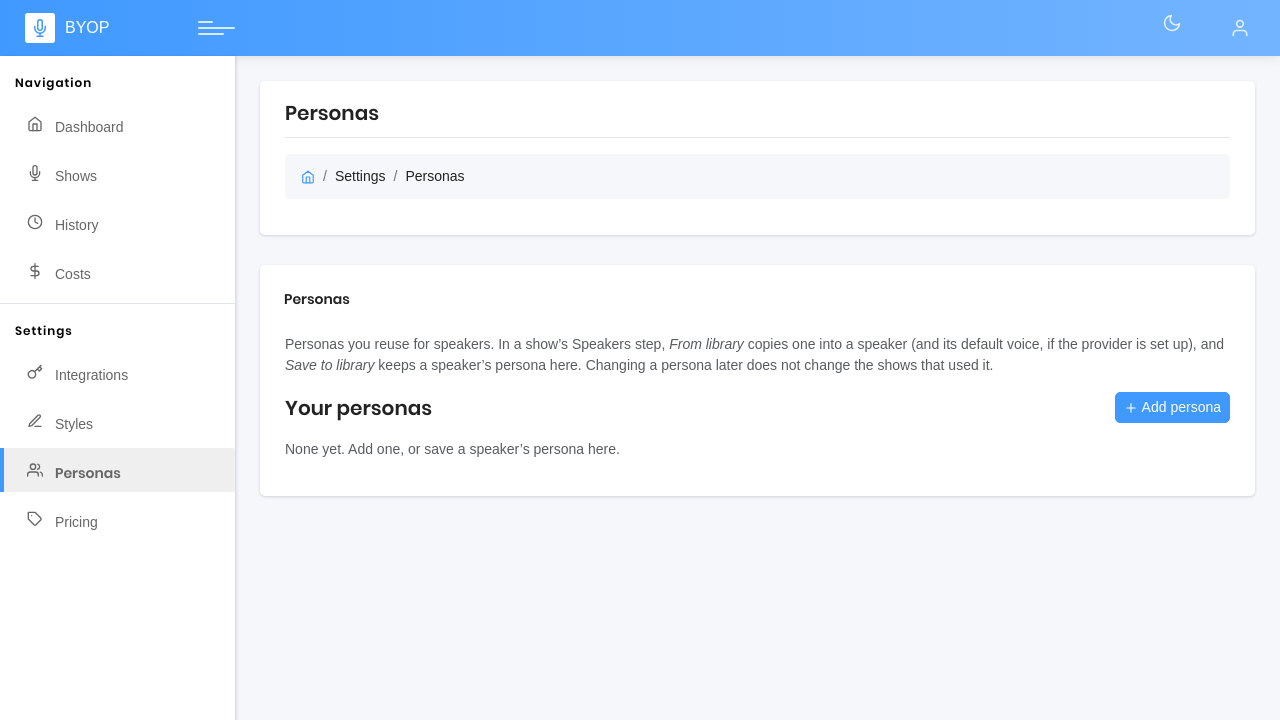
it: Personas page › shows why a persona could not be designed
Expected: the heading "Your personas" is shown, [285,396,432,420]
Click the button "Add persona" at (1172, 408), box [1115,392,1230,423]
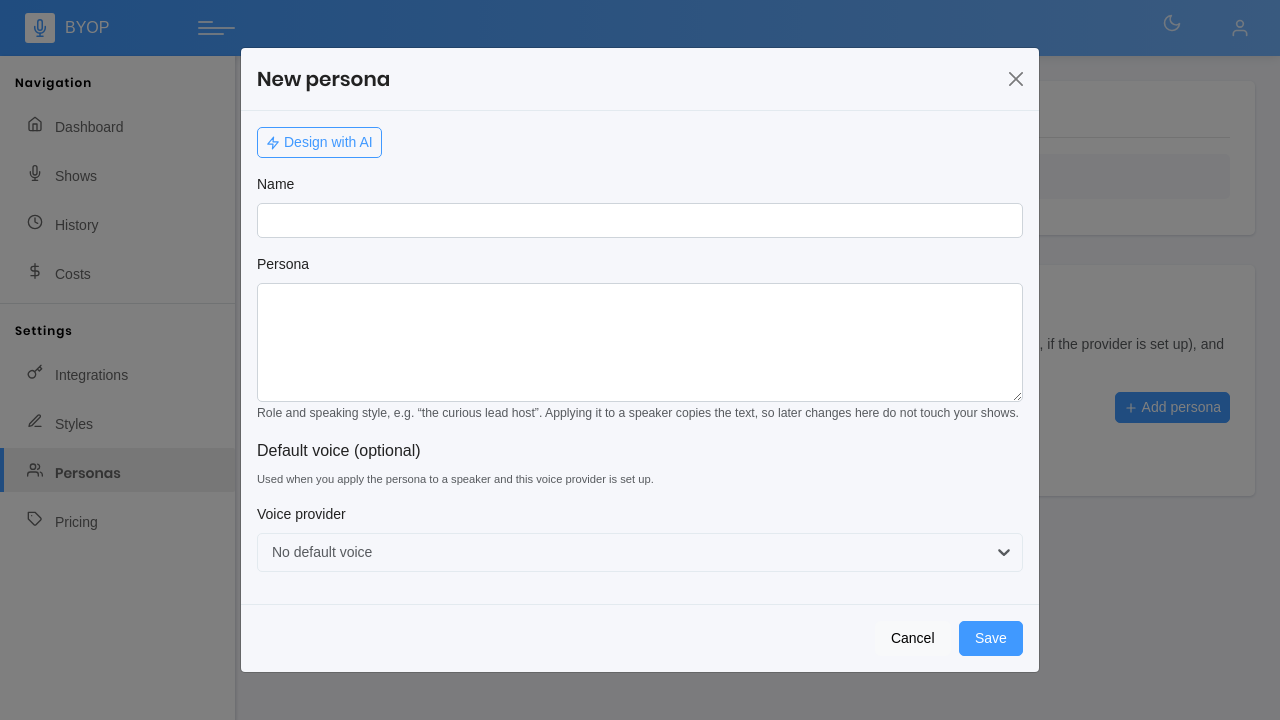
Click the button "Design with AI" at (319, 143), box [257,127,382,158]
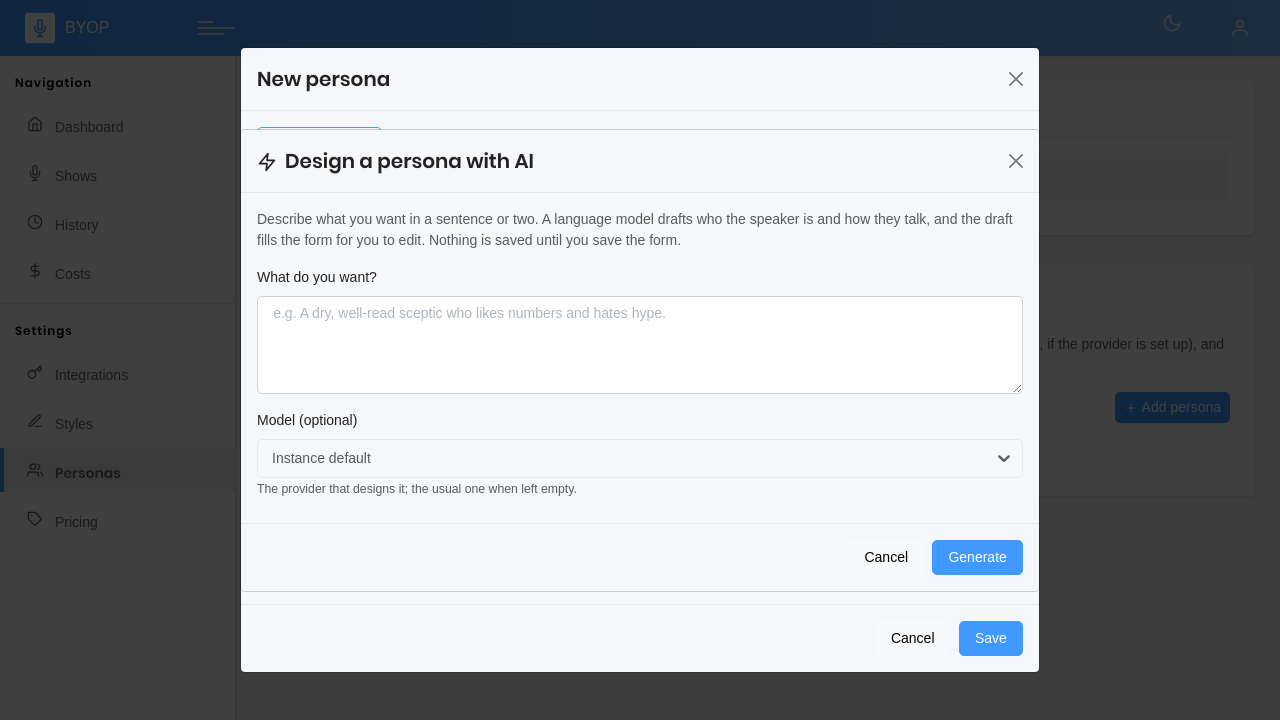
Type "x" into the text box labelled "What do you want?" at (640, 344), box [257,296,1023,394]
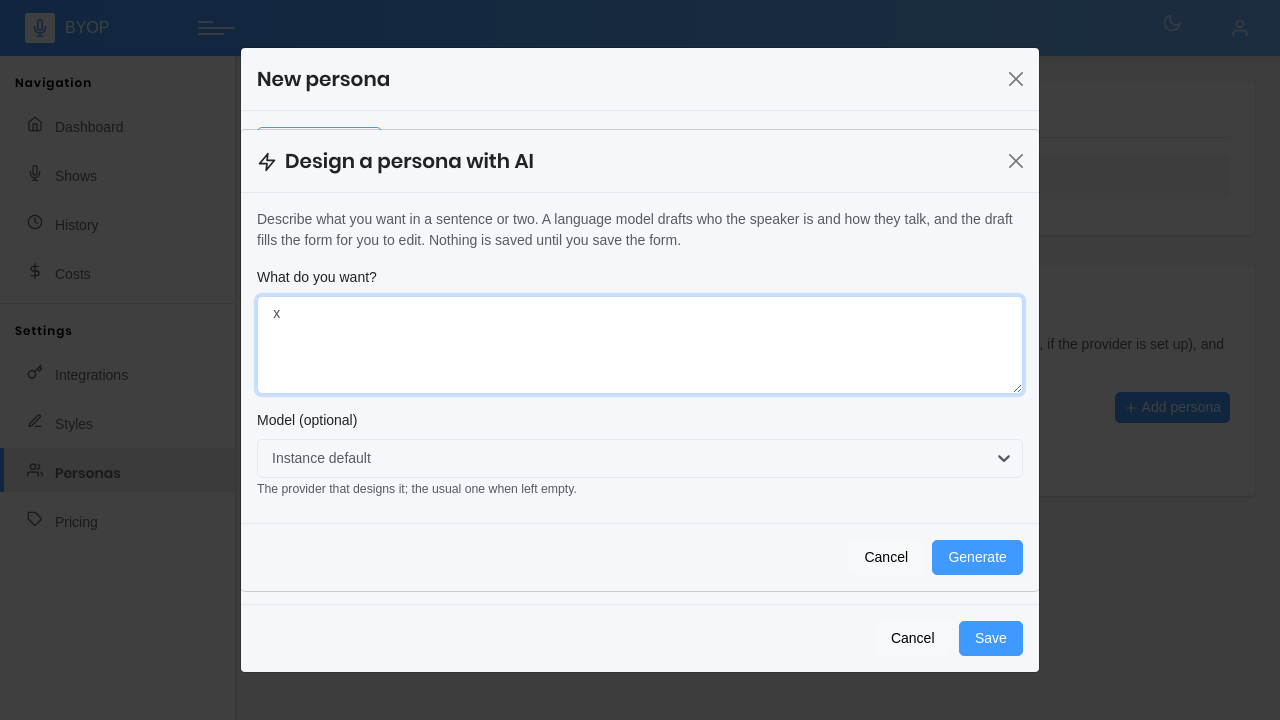
Click the button "Generate" at (978, 557), box [932,540,1023,574]
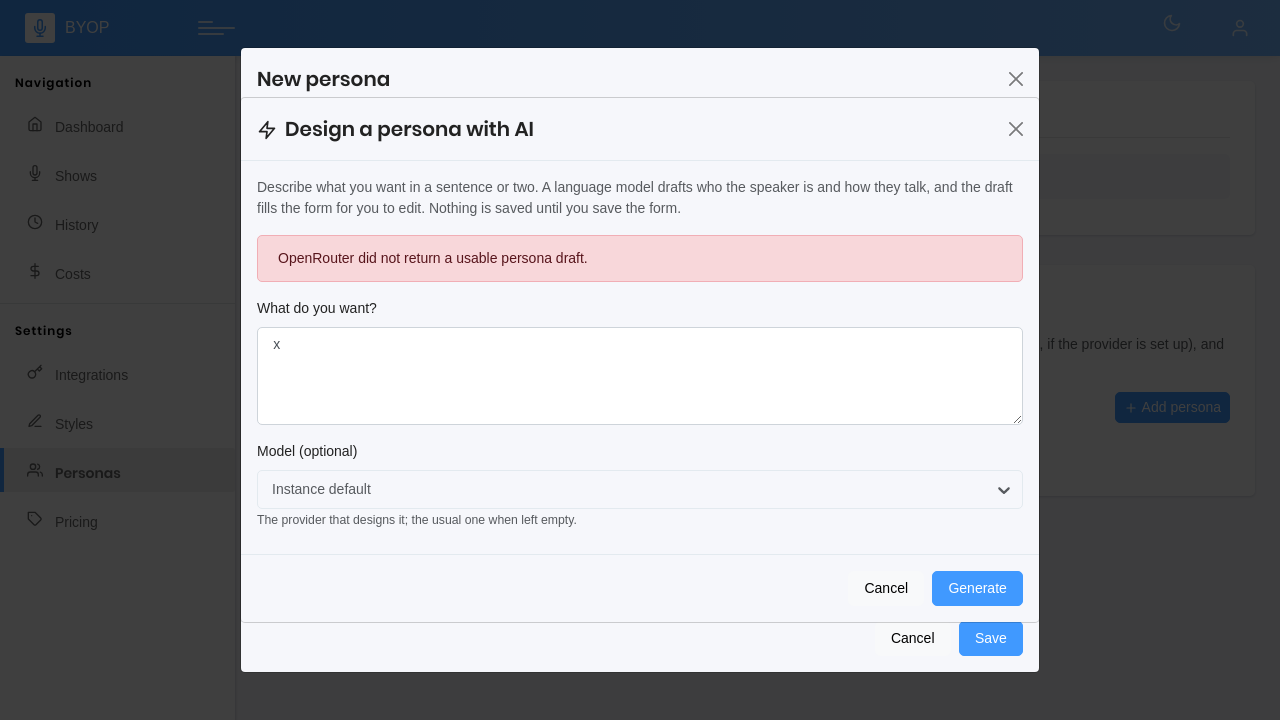
Expected: the text "OpenRouter did not return a usable persona draft." is shown, [257,235,1023,282]
